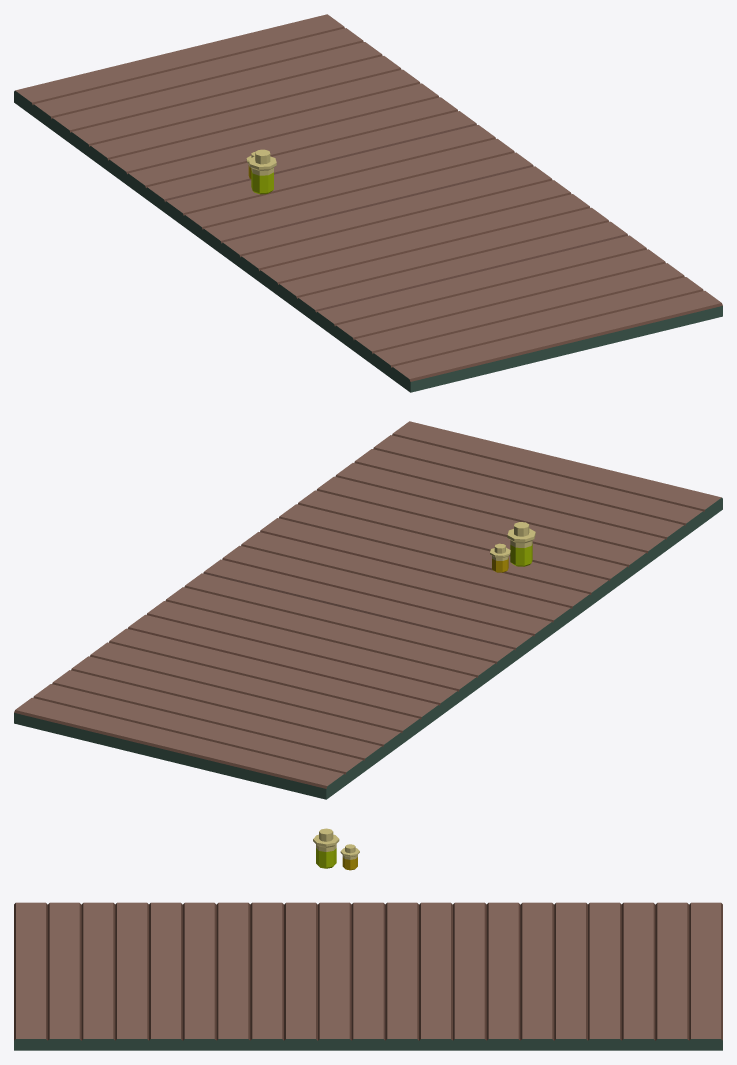
File: augur bottle.fbx
The picture shows the model from 3 angles, top to bottom: view 1: azimuth 30°, elevation 25°; view 2: azimuth 150°, elevation 25°; view 3: azimuth 270°, elevation 25°; orthographic projection. The views are drawn at different scales.
Parts seen in each view (by area): view 1: augur floor, augur bottle2; view 2: augur floor, augur bottle2; view 3: augur floor, augur bottle2.
Part boxes in pixels (x1,y1,x2,y2): augur floor: (14,14,722,392); augur bottle2: (246,149,276,194); augur floor: (14,421,722,799); augur bottle2: (490,522,535,572); augur floor: (14,902,722,1050); augur bottle2: (313,828,359,870).
Bounding box in the file's own units: 382 × 123 × 840.
